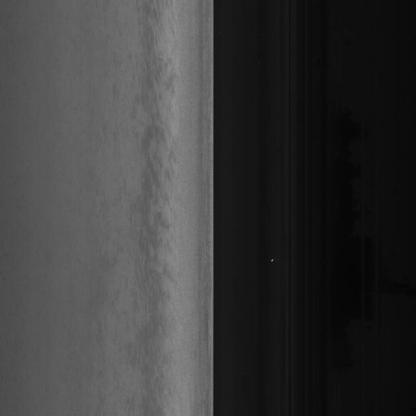silk_spot: (135, 150, 185, 273)
